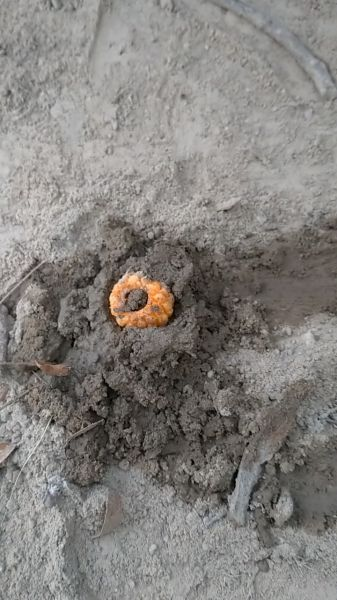eggs: (101, 264, 181, 334)
